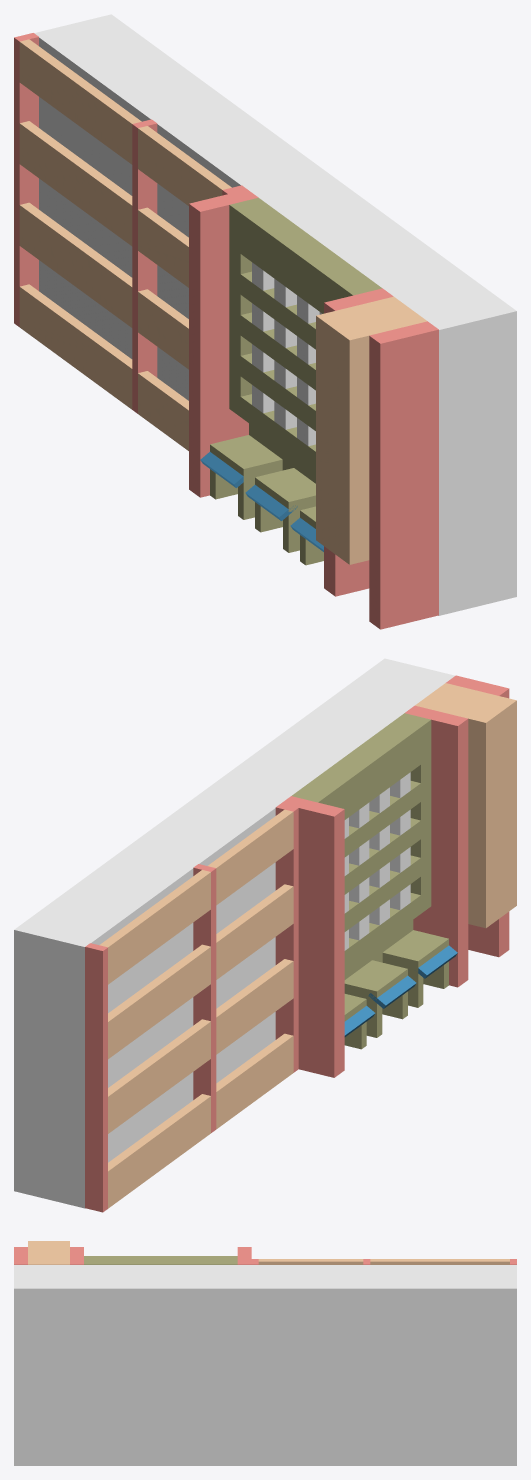
The model's file is Buildings_Left.fbx.
3 views of the same model, one above another, from view 1: azimuth 30°, elevation 25°; view 2: azimuth 150°, elevation 25°; view 3: azimuth 270°, elevation 25° (orthographic). The views are drawn at different scales.
Visible parts, largest first — view 1: BuildingBack, BuildingBorder__21_, BuildingBorder__22_, BuildingBorder__17_, BuildingBorder__8_, BuildingBorer__2_, BuildingBorder__4_, BuildingBorder__6_, StallHouse__42_, BuildingBorder__1_, BuildingBorder, BuildingBorder__9_ (+14 smaller); view 2: BuildingBack, BuildingBorder__17_, BuildingBorder__22_, BuildingBorder__18_, BuildingBorder, BuildingBorder__8_, BuildingBorder__6_, BuildingBorder__4_, BuildingBorer__2_, BuildingBorder__9_, BuildingBorder__3_, BuildingBorder__5_ (+14 smaller); view 3: BuildingBack, BuildingBorder__8_, BuildingBorder__22_, StallHouse__42_, BuildingBorder__9_, StallHouse__14_, BuildingBorder__17_.
Boxes of the visible parts, <box> form: BuildingBack: <box>34,14,516,615</box>; BuildingBorder__21_: <box>369,321,438,629</box>; BuildingBorder__22_: <box>316,301,407,564</box>; BuildingBorder__17_: <box>189,189,258,497</box>; BuildingBorder__8_: <box>19,39,141,164</box>; BuildingBorer__2_: <box>19,284,132,409</box>; BuildingBorder__4_: <box>19,202,132,327</box>; BuildingBorder__6_: <box>19,121,132,246</box>; StallHouse__42_: <box>240,208,361,300</box>; BuildingBorder__1_: <box>132,119,157,413</box>; BuildingBorder: <box>14,33,38,326</box>; BuildingBorder__9_: <box>138,126,231,205</box>; BuildingBack: <box>14,658,454,1208</box>; BuildingBorder__17_: <box>281,796,344,1077</box>; BuildingBorder__22_: <box>433,687,516,928</box>; BuildingBorder__18_: <box>405,705,468,987</box>; BuildingBorder: <box>85,943,107,1212</box>; BuildingBorder__8_: <box>99,870,210,984</box>; BuildingBorder__6_: <box>108,944,210,1059</box>; BuildingBorder__4_: <box>108,1019,210,1133</box>; BuildingBorer__2_: <box>108,1094,210,1208</box>; BuildingBorder__9_: <box>208,809,293,905</box>; BuildingBorder__3_: <box>216,1033,293,1129</box>; BuildingBorder__5_: <box>216,959,293,1054</box>; BuildingBack: <box>14,1265,516,1465</box>; BuildingBorder__8_: <box>370,1259,509,1264</box>; BuildingBorder__22_: <box>28,1241,69,1258</box>; StallHouse__42_: <box>98,1256,223,1261</box>; BuildingBorder__9_: <box>258,1259,363,1264</box>; StallHouse__14_: <box>84,1261,237,1264</box>; BuildingBorder__17_: <box>237,1247,251,1264</box>.
Size of the model in its own units: 799 by 1402 by 3601.
